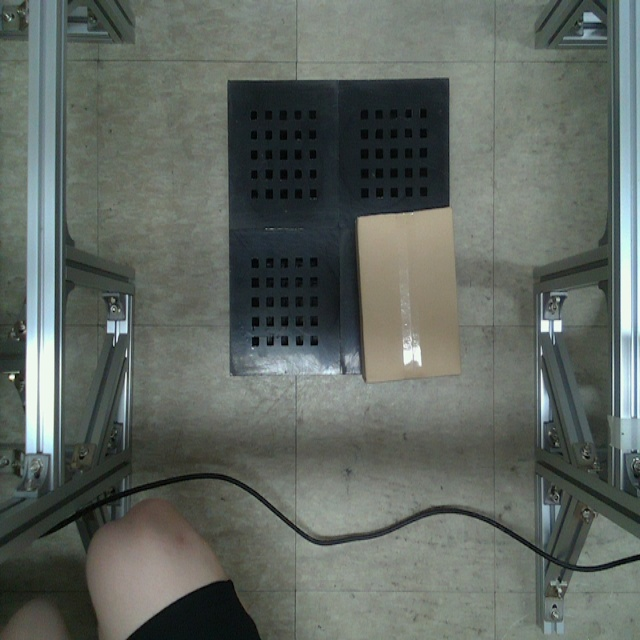box: (356, 205, 462, 383)
